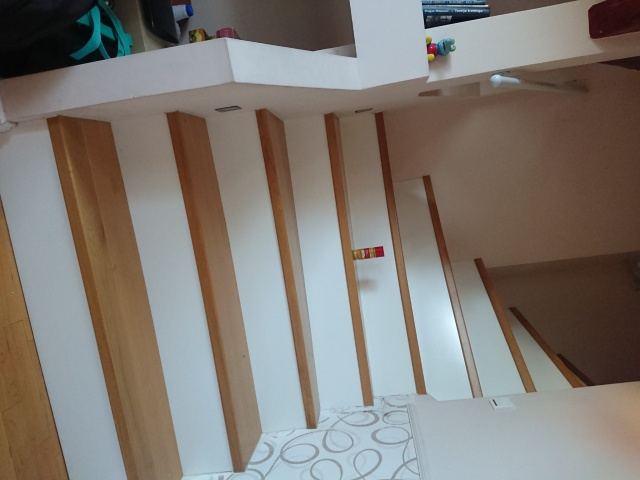Kotanyi Curry Spices Mix 70g: (350, 245, 386, 262)
